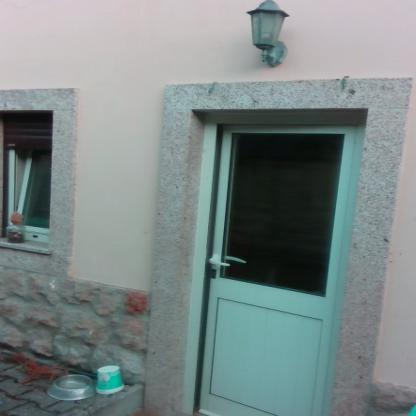door: (193, 125, 338, 416)
lever: (204, 258, 237, 274)
